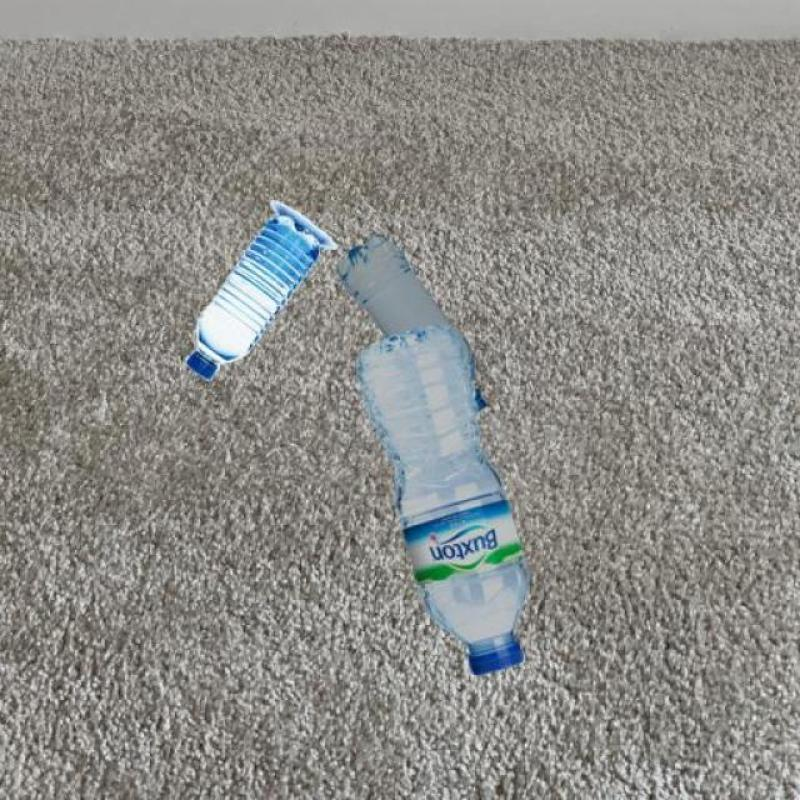botella: (356, 323, 530, 677), (336, 235, 492, 414), (182, 213, 320, 381)
